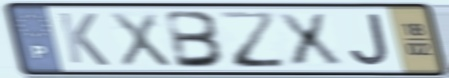B: (163, 8, 229, 70)
J: (348, 12, 393, 68)
K: (55, 10, 112, 68)
X: (271, 11, 347, 68), (106, 10, 175, 69)
Z: (215, 9, 291, 70)
